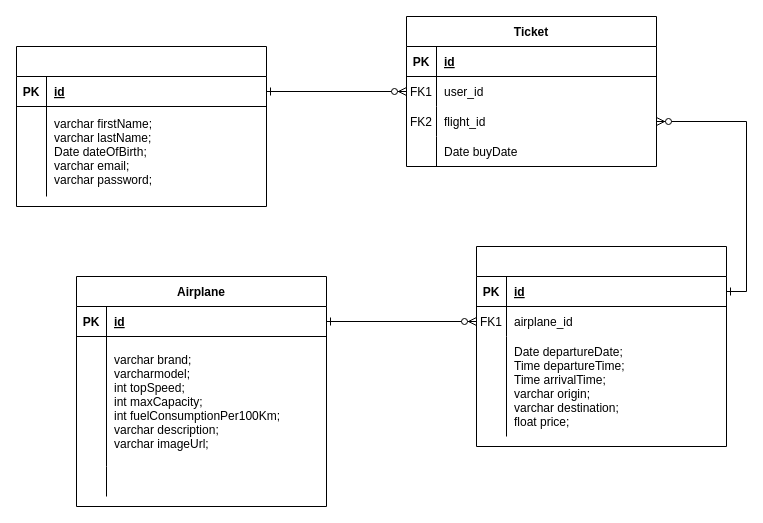
Some shapes in this 763 by 523 pixel diagram are drawn without their labels. Here are the shapes that lost their labels. From the top down, the box of each, then its label:
(16, 46, 266, 206): User
(476, 246, 726, 446): Flight
